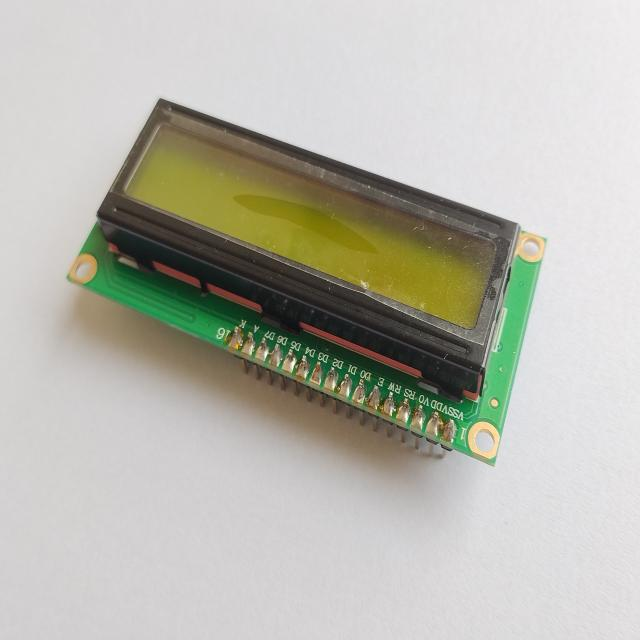lcd: (67, 96, 547, 468)
